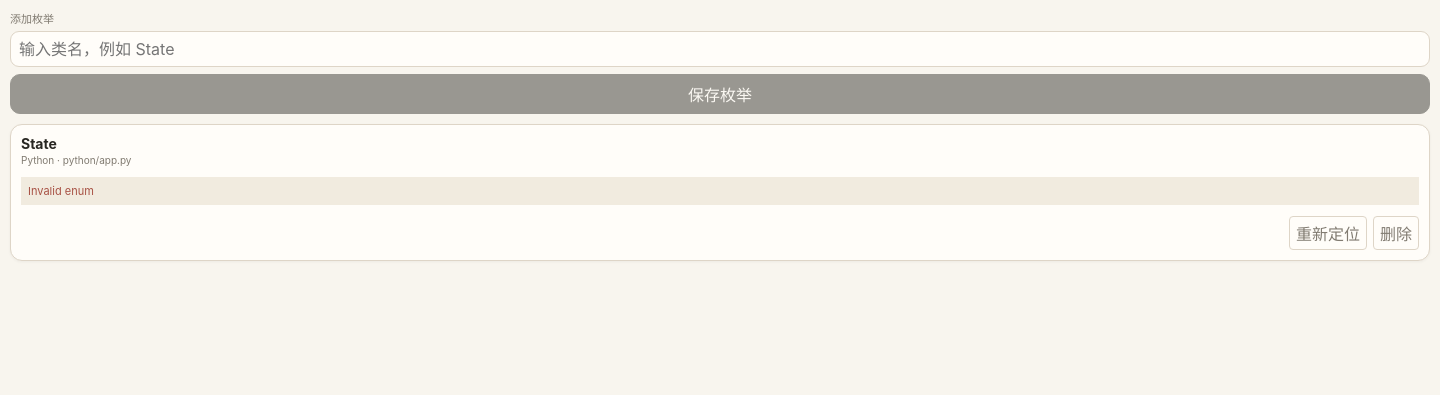
EnumPanel › keeps the old bookmark when saving a replacement fails
Click the button with aria-label "重新定位 State". click: (1328, 233)
box: x1=1289 y1=216 x2=1367 y2=250
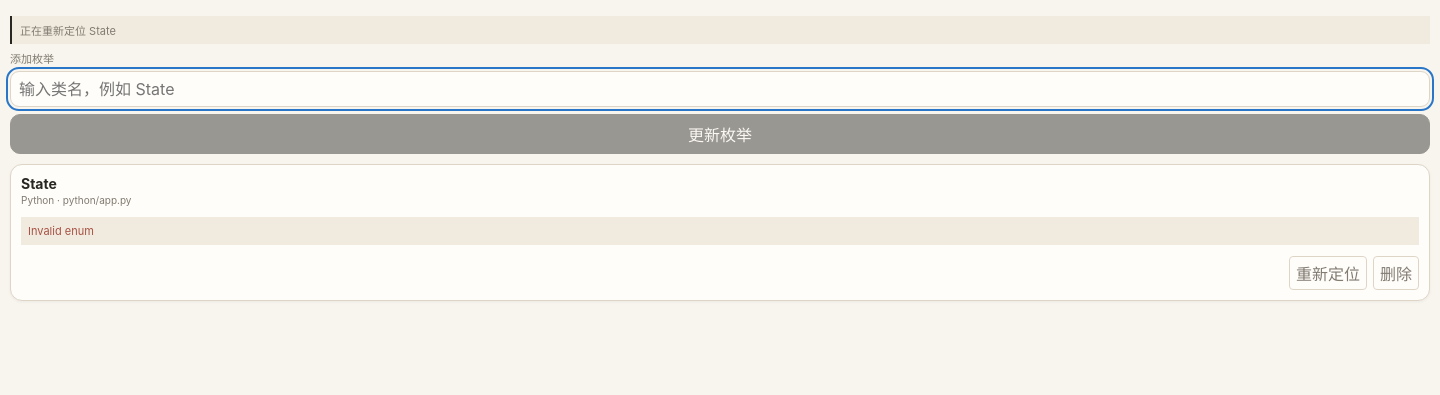
Type "State" into the dropdown named "枚举类". click: (720, 89)
box: x1=10 y1=71 x2=1430 y2=107
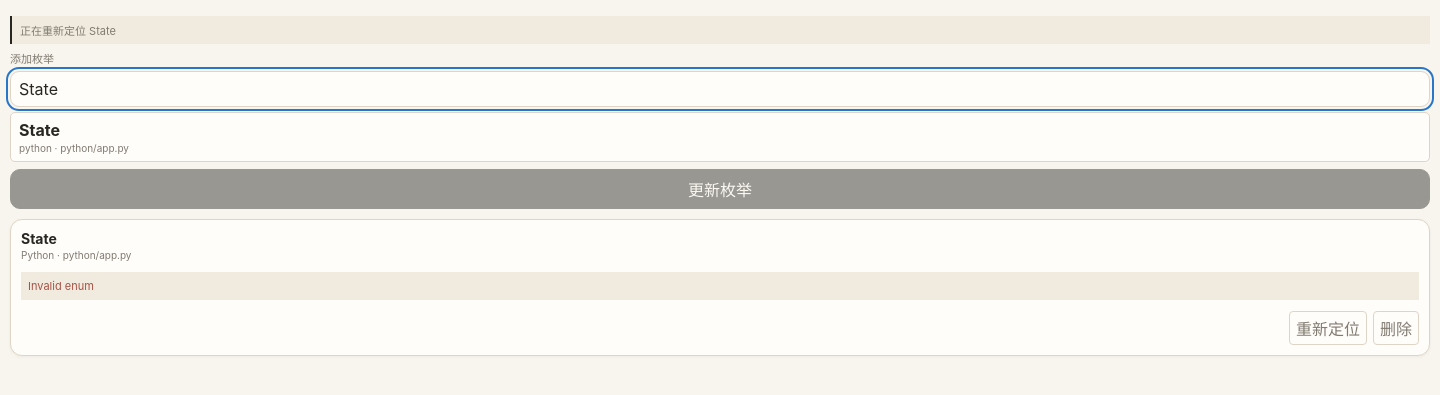
Click the option with aria-label "State · python · python/app.py". click: (39, 130)
box: x1=11 y1=113 x2=1429 y2=161
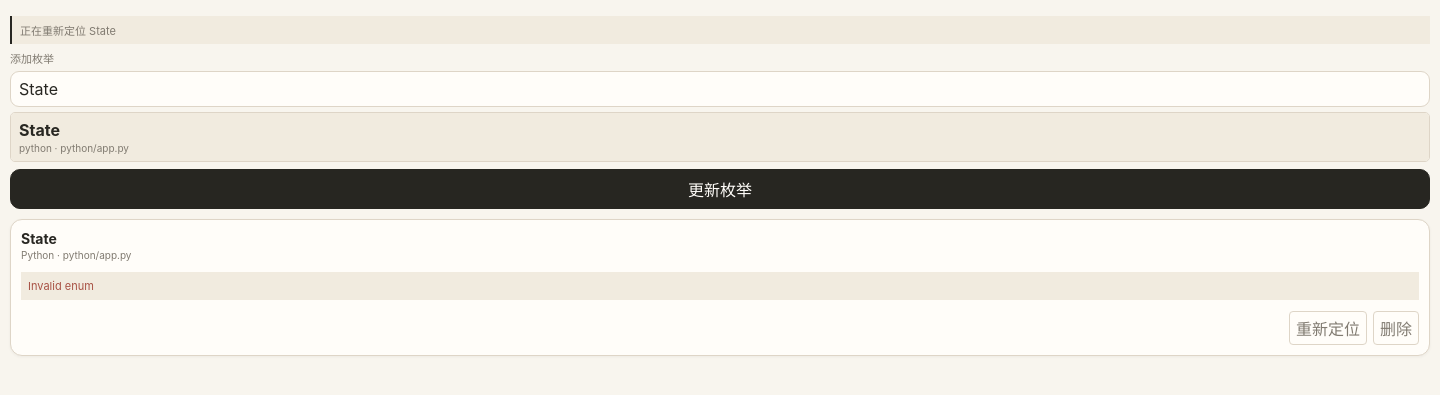
Click the button "更新枚举". click: (720, 189)
box: x1=10 y1=169 x2=1430 y2=209
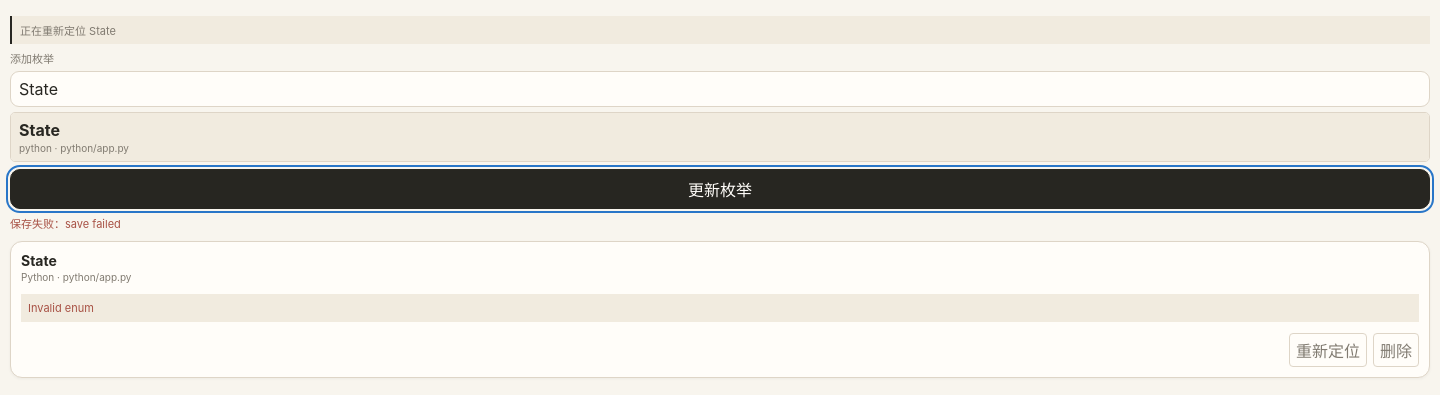
Check: the message "保存失败" is shown, box x1=10 y1=217 x2=121 y2=231
